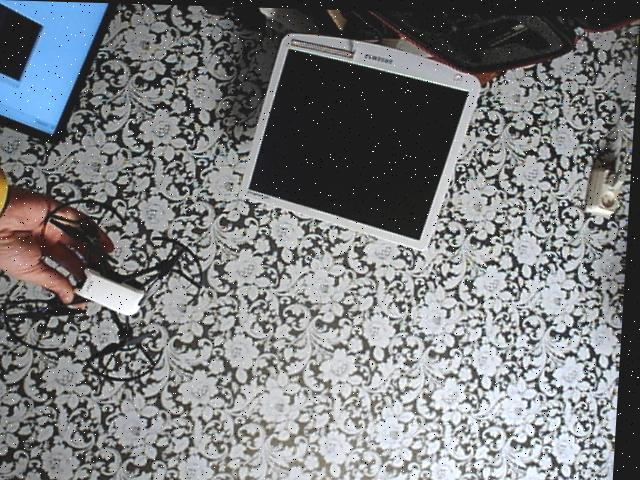drone: (0, 168, 228, 387)
